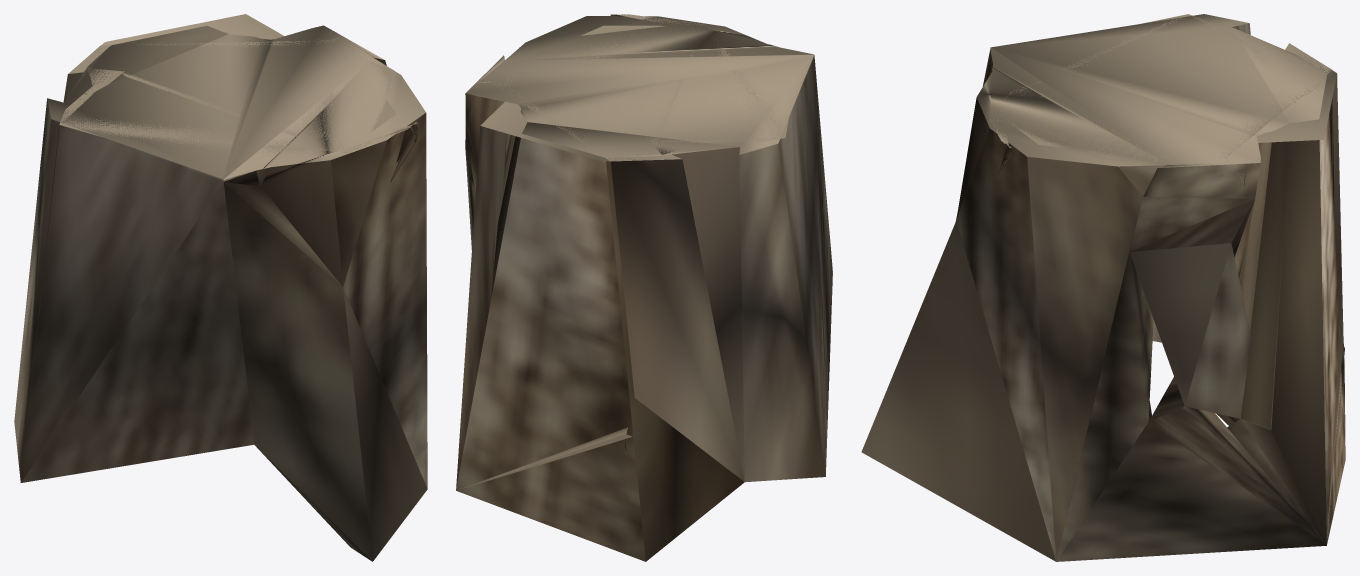
Rendered from ash-stump-lod2.gltf.
3 views of the same model, side by side, from view 1: azimuth 30°, elevation 25°; view 2: azimuth 150°, elevation 25°; view 3: azimuth 270°, elevation 25° (orthographic). The views are drawn at different scales.
Parts seen in each view (by area): view 1: ash-stump-lod2; view 2: ash-stump-lod2; view 3: ash-stump-lod2.
Part boxes in pixels (x1,y1,x2,y2): ash-stump-lod2: (14, 14, 427, 561); ash-stump-lod2: (456, 14, 832, 561); ash-stump-lod2: (861, 14, 1345, 561).
Bounding box in the file's own units: 0.3916 × 0.42 × 0.448.
2 materials, 1 textured.
